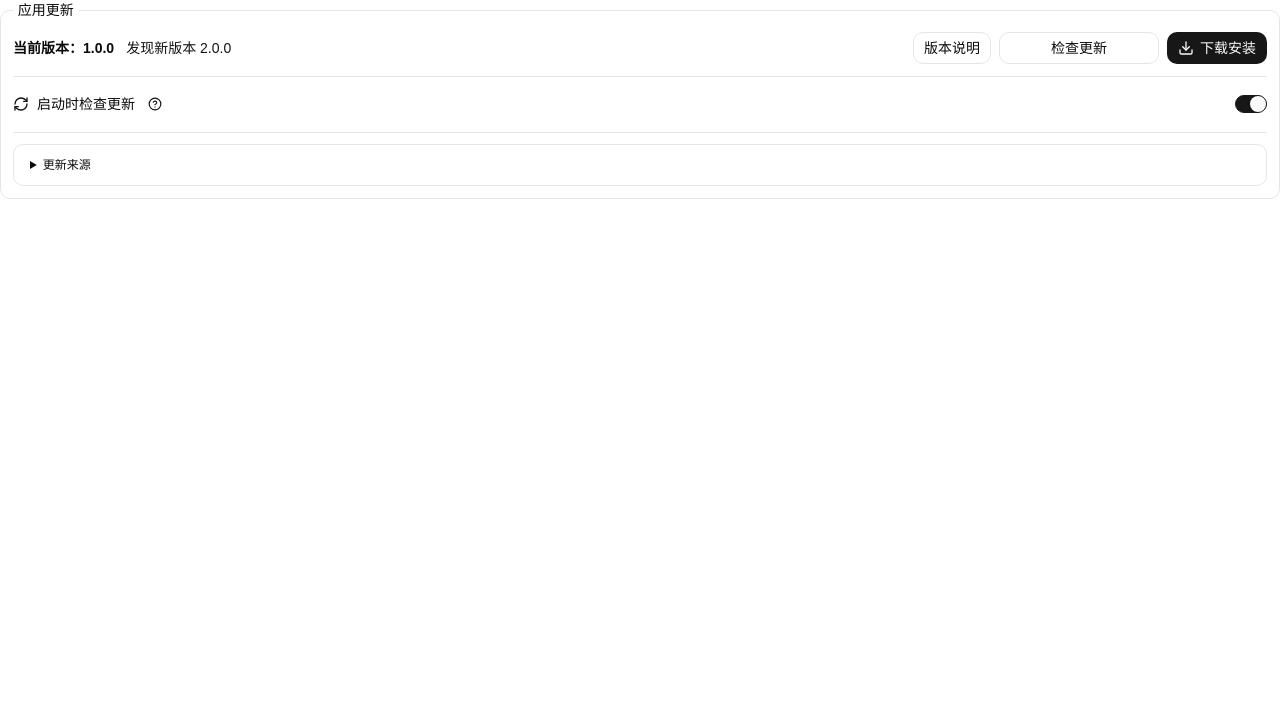
Test: updater controls › localizes the release-notes dialog and empty state in Chinese
Click the button "版本说明": (952, 48) [913,32,991,64]
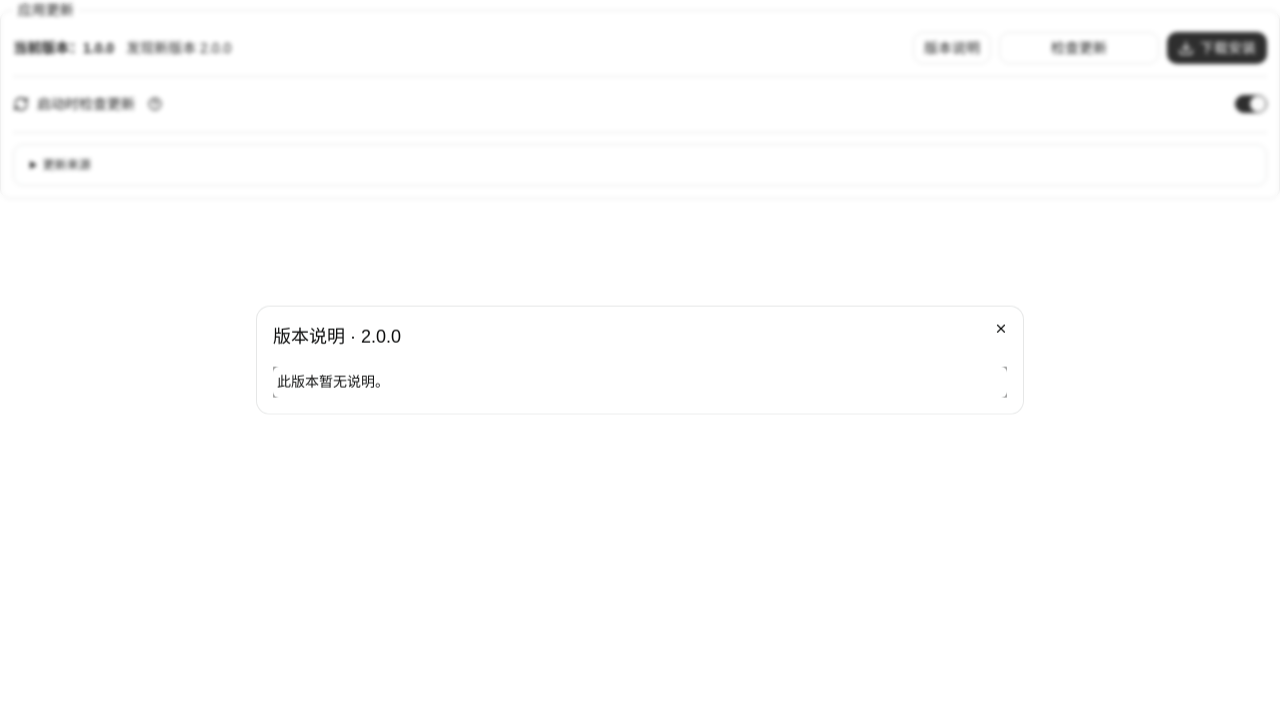
Check: the text "此版本暂无说明。" is shown, box [277,374,389,390]
Check: the button named "关闭" is shown, box [987,315,1015,343]
